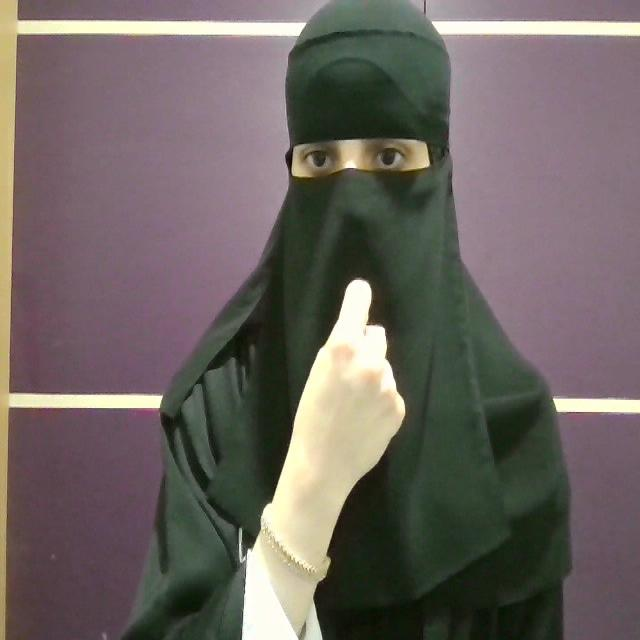medicine: (241, 276, 406, 637)
